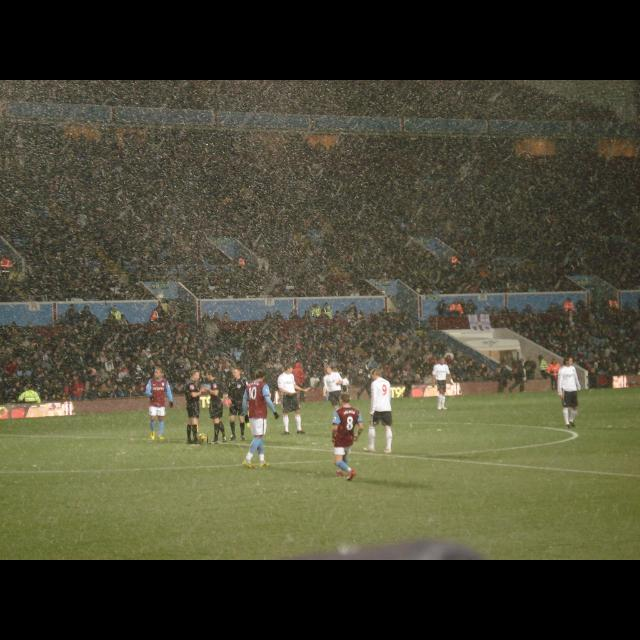Football: (198, 431, 208, 443)
